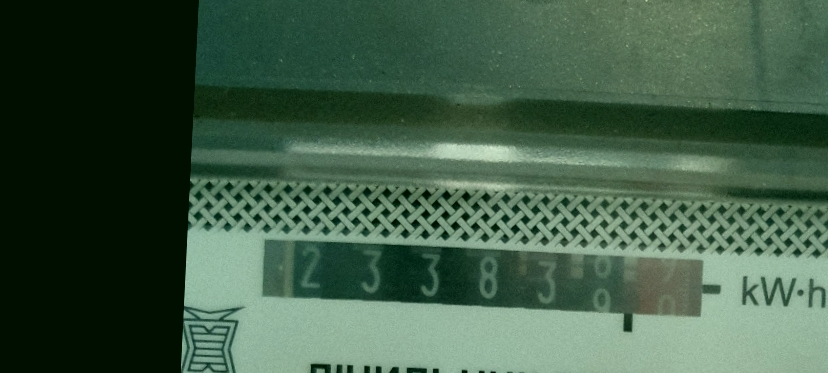0: (655, 291, 678, 318)
2: (298, 243, 324, 291)
3: (355, 244, 386, 295), (413, 249, 444, 299), (533, 257, 559, 304)
8: (473, 253, 502, 300), (590, 252, 614, 280)
9: (656, 254, 679, 285), (590, 284, 612, 314)
screen: (248, 227, 725, 340)
